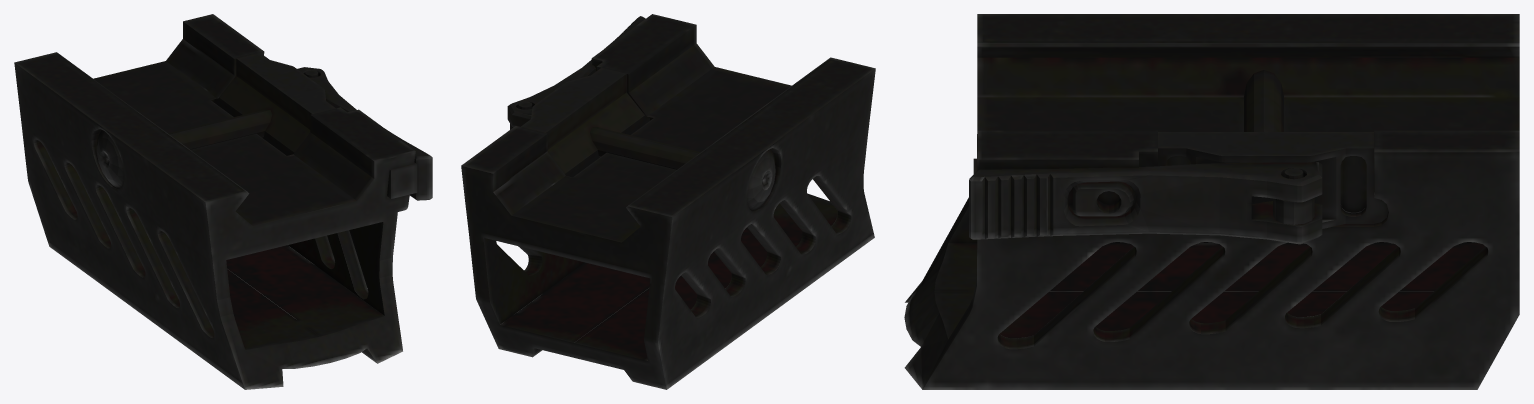
3 views of the same model, side by side, from view 1: azimuth 30°, elevation 25°; view 2: azimuth 150°, elevation 25°; view 3: azimuth 270°, elevation 25° (orthographic). The views are drawn at different scales.
Parts seen in each view (by area): view 1: TW_5b31163c5acfc400153b71cb_PZ_Import; view 2: TW_5b31163c5acfc400153b71cb_PZ_Import; view 3: TW_5b31163c5acfc400153b71cb_PZ_Import.
Boxes of the visible parts, left/top/right/bottom form: TW_5b31163c5acfc400153b71cb_PZ_Import: left=14, top=14, right=432, bottom=389; TW_5b31163c5acfc400153b71cb_PZ_Import: left=461, top=14, right=875, bottom=389; TW_5b31163c5acfc400153b71cb_PZ_Import: left=904, top=14, right=1519, bottom=389.
Size of the model in its own units: 0.0206 by 0.0334 by 0.0152.
1 material, 1 textured.
